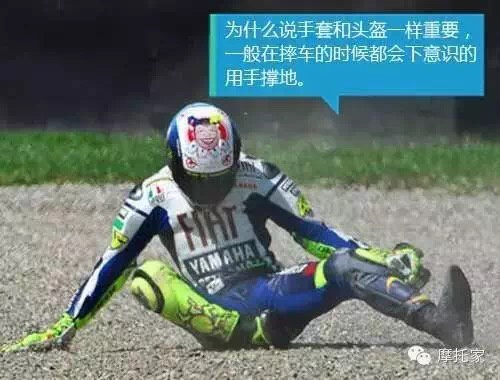fall: (2, 99, 500, 354)
